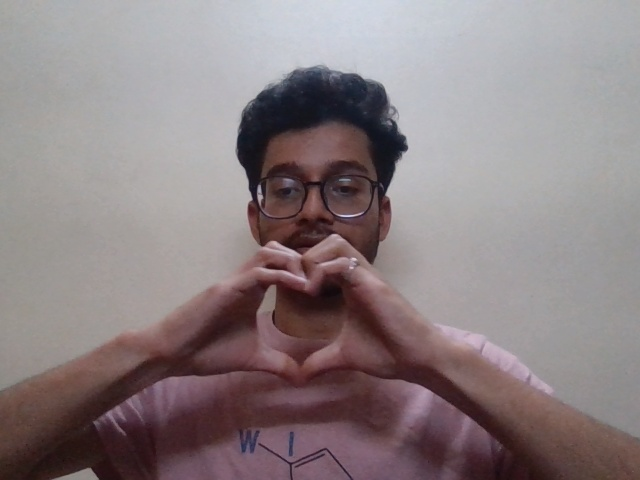silent-voice: (179, 234, 420, 394)
